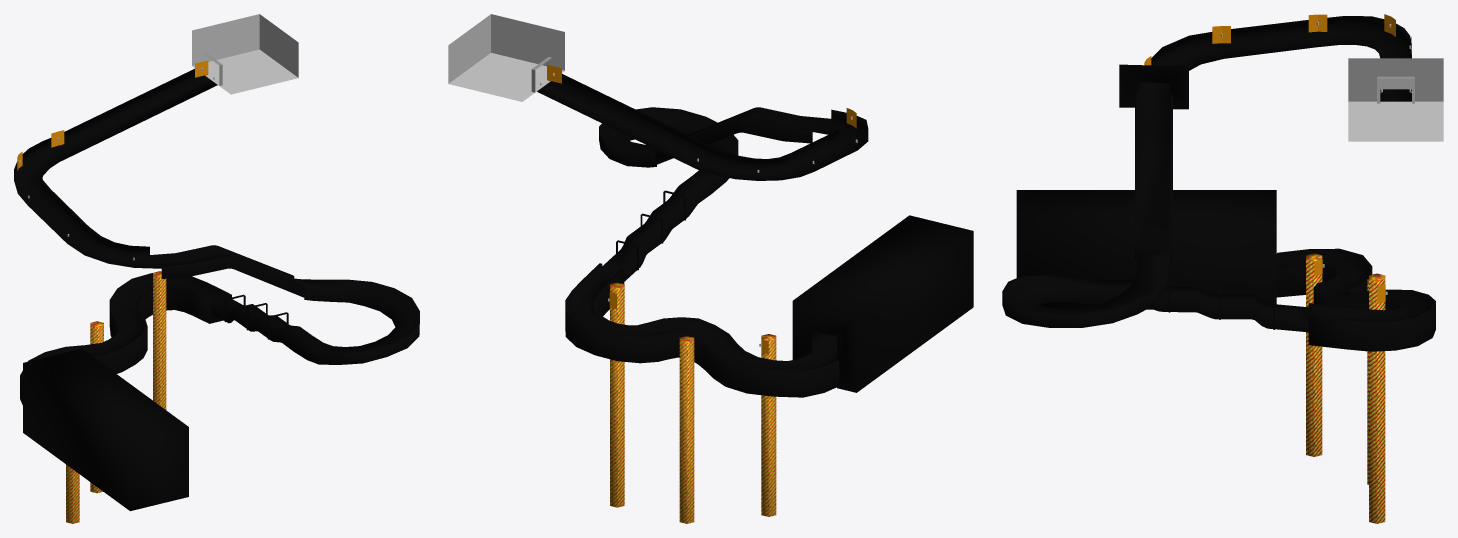
File: minislider.glb
The picture shows the model from 3 angles, left to right: view 1: azimuth 30°, elevation 25°; view 2: azimuth 150°, elevation 25°; view 3: azimuth 270°, elevation 25°; orthographic projection. The views are drawn at different scales.
Visible parts, largest first — view 1: 0, 1, 4; view 2: 0, 1, 4; view 3: 0, 1, 4.
Boxes of the visible parts, bbox=[...] form: 0: bbox=[14, 68, 419, 523]; 1: bbox=[192, 14, 298, 94]; 4: bbox=[17, 60, 208, 170]; 0: bbox=[537, 74, 973, 523]; 1: bbox=[448, 14, 564, 101]; 4: bbox=[547, 64, 856, 354]; 0: bbox=[1002, 16, 1435, 523]; 1: bbox=[1348, 58, 1443, 141]; 4: bbox=[1144, 14, 1411, 303].
Bounding box in the file's own units: 13980 × 17714 × 14255.
